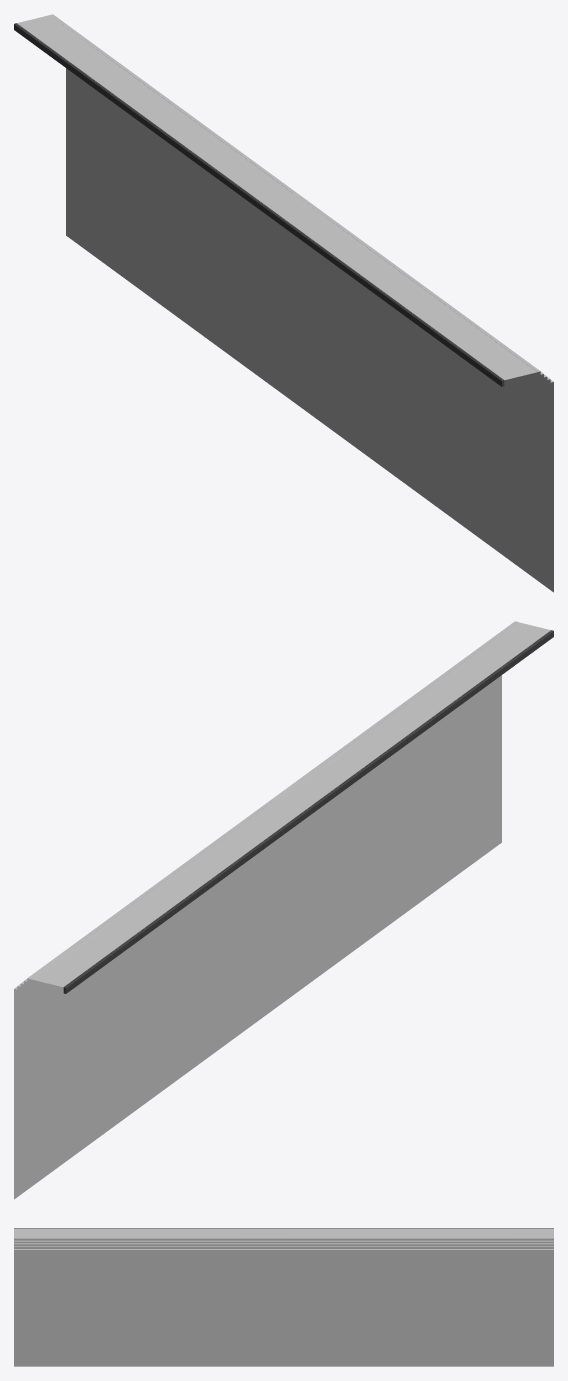
Rendered from sidewalk_small.fbx.
3 views of the same model, one above another, from view 1: azimuth 30°, elevation 25°; view 2: azimuth 150°, elevation 25°; view 3: azimuth 270°, elevation 25° (orthographic). The views are drawn at different scales.
Visible parts, largest first — view 1: NodeSidewalk.001; view 2: NodeSidewalk.001; view 3: NodeSidewalk.001.
Boxes of the visible parts, x1,y1,x2,y2 form: NodeSidewalk.001: (14,14,553,592); NodeSidewalk.001: (14,621,553,1199); NodeSidewalk.001: (14,1228,553,1366).
Size of the model in its own units: 395 by 1626 by 6400.
